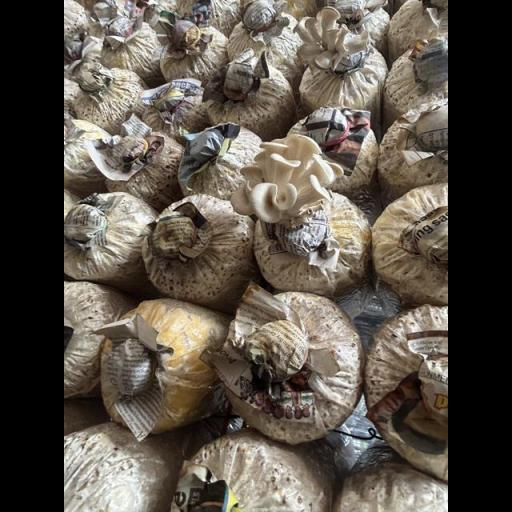White Oyster Mushroom: (218, 123, 353, 235)
